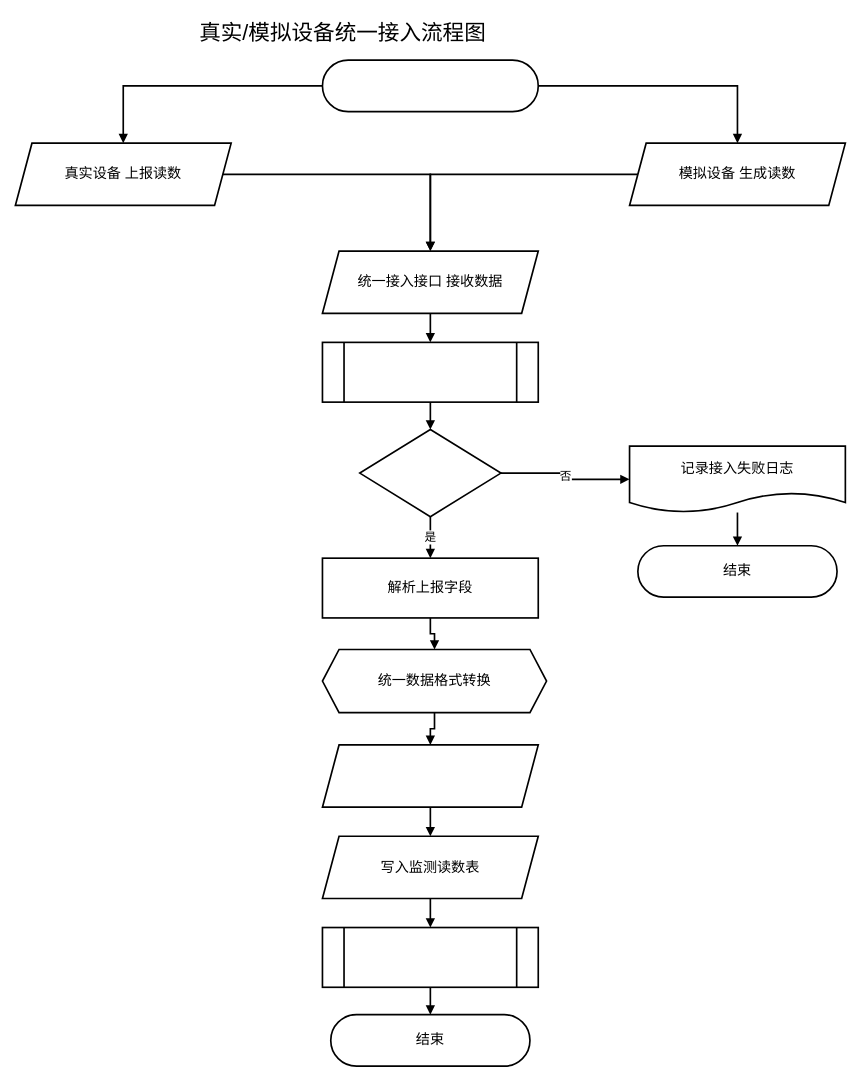
The diagram is 860 pixels wide and 1081 high, and some of its shapes have lost their labels. The box of each missing label's shape, as (x1, y1, x2, y2) in pixels:
写入原始数据表: (321, 744, 539, 808)
开始: (321, 59, 539, 112)
设备是否合法: (359, 428, 501, 517)
设备身份校验: (321, 341, 539, 403)
进入异常检测流程: (321, 926, 539, 988)
